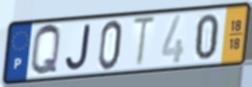0: (97, 18, 125, 72), (194, 13, 222, 62)
4: (160, 13, 186, 65)
J: (64, 23, 93, 72)
Q: (29, 23, 63, 78)
T: (131, 15, 158, 70)
